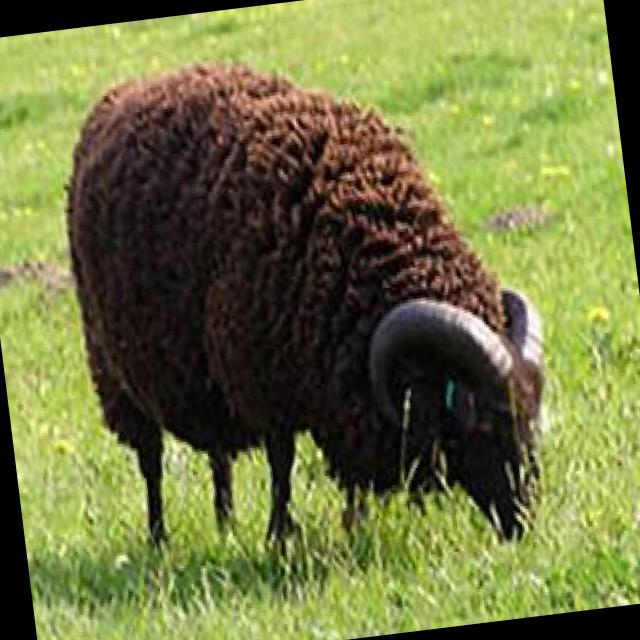sheep: (50, 31, 562, 585)
